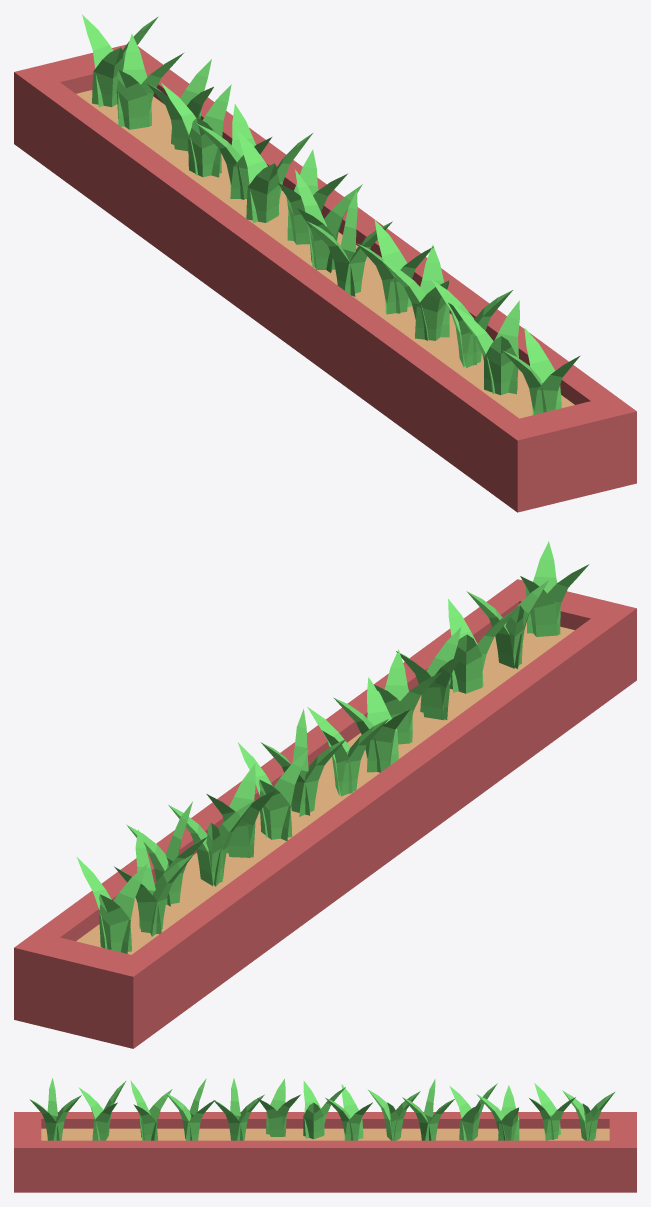
3 renders of one model, top to bottom at view 1: azimuth 30°, elevation 25°; view 2: azimuth 150°, elevation 25°; view 3: azimuth 270°, elevation 25°, orthographic. The views are drawn at different scales.
Visible parts, largest first — view 1: Cube.054; view 2: Cube.054; view 3: Cube.054.
Part boxes in pixels (box(x1,y1,x2,y2)): Cube.054: box(14, 14, 636, 512); Cube.054: box(14, 541, 636, 1048); Cube.054: box(14, 1078, 636, 1192).
Bounding box in the file's own units: 200 × 217 × 1460.
